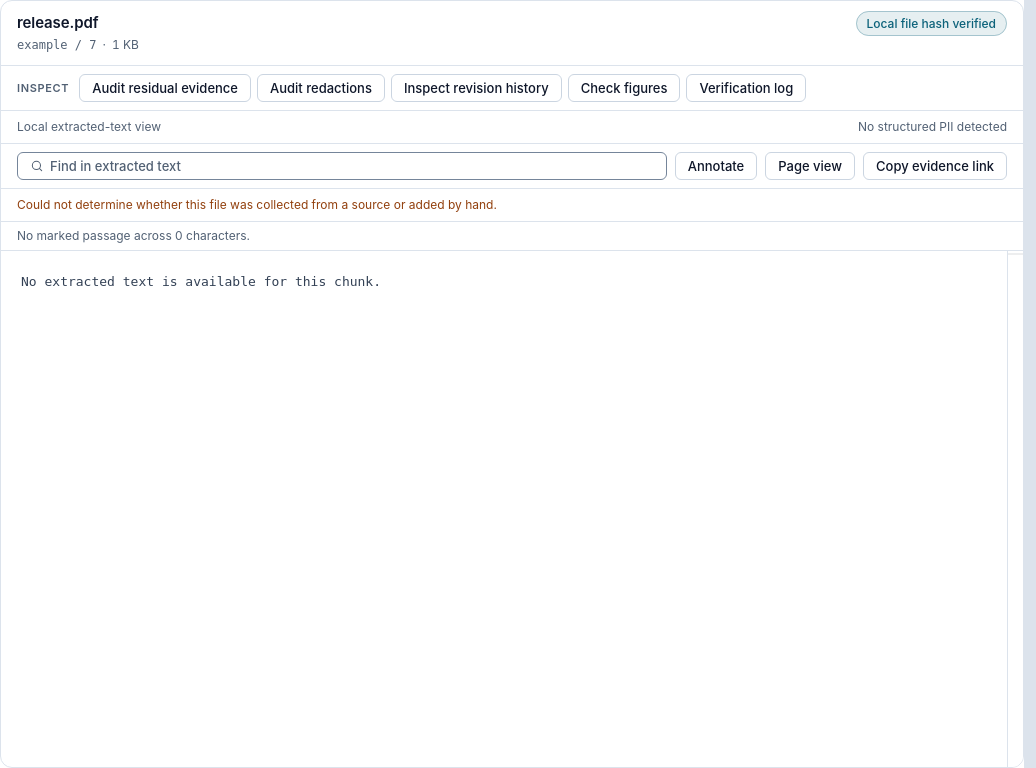
Test: provenance verification log › reads the log only when asked for it
expect the text "recorded check" is not shown: met
What coordinates should you click on to do the following:
click the button "Verification log"
I would click on:
 (746, 88)
Its box is 686,74 -> 806,102.
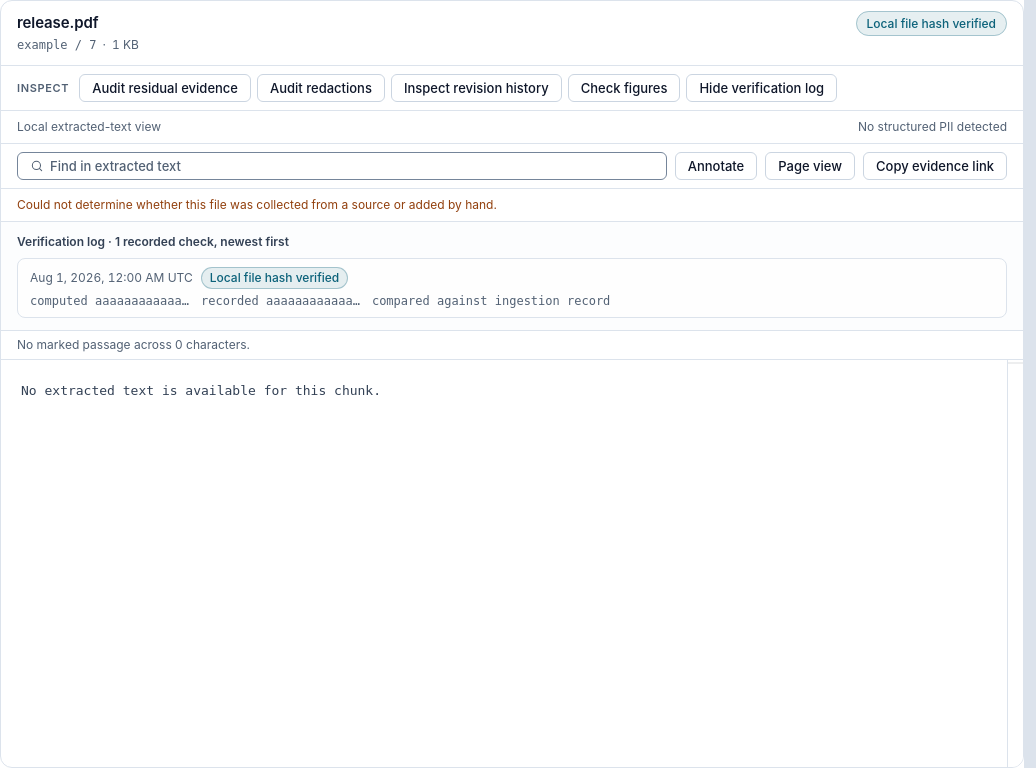
expect the text "Verification log · 1 recorded check, newest first" is shown: met, box 17,234 -> 289,249
